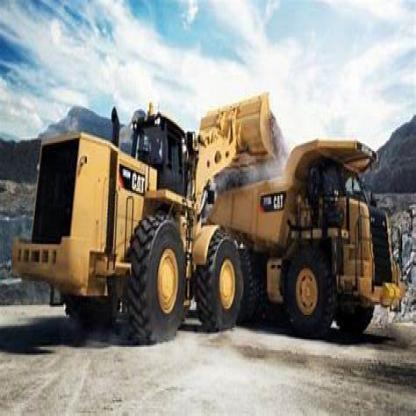bull_dozer/loader/grader: (9, 83, 280, 340)
